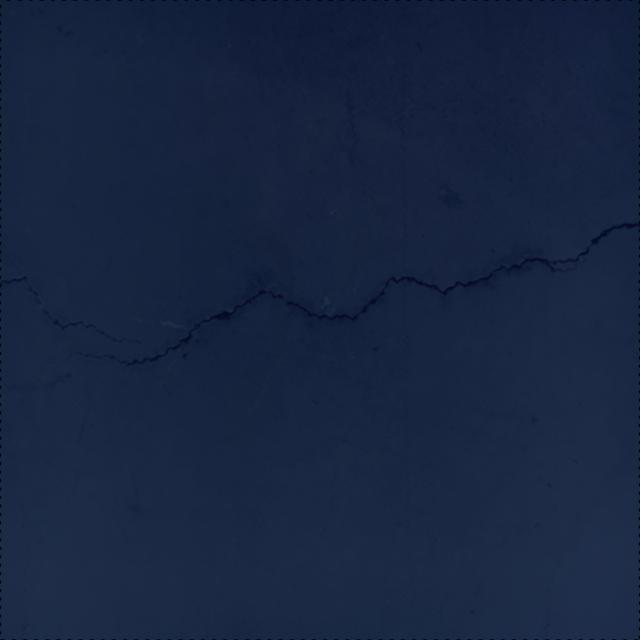crack: (70, 222, 640, 368), (0, 276, 145, 344)
